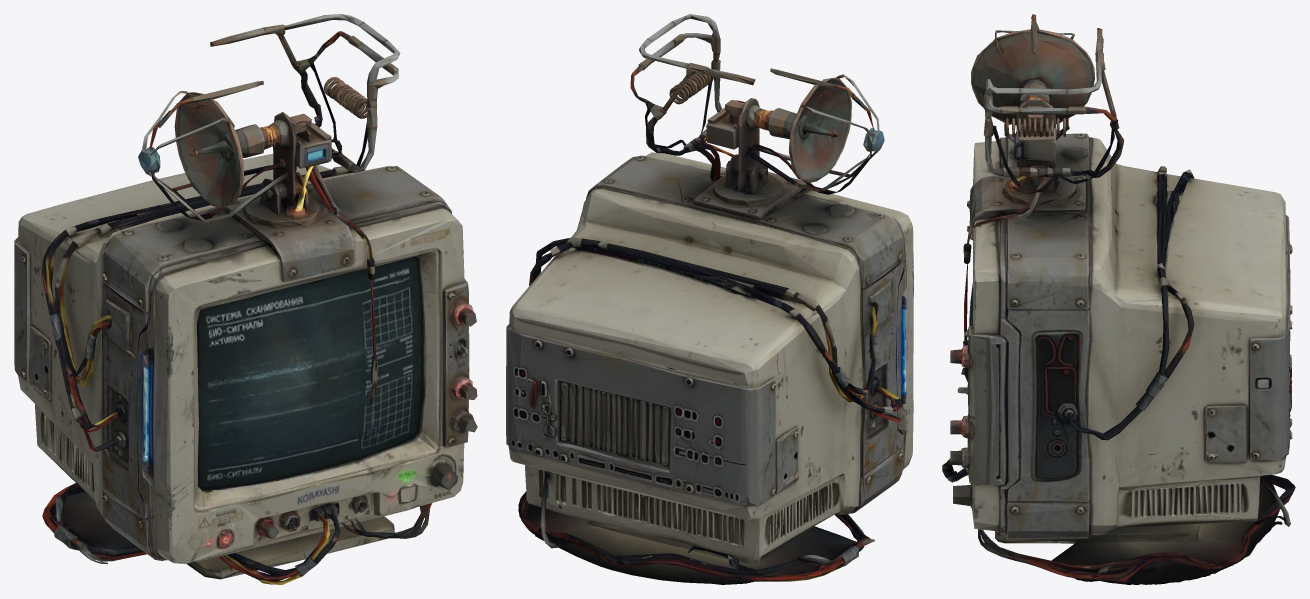
File: prop_scanner_lv1.glb
3 renders of one model, left to right at view 1: azimuth 30°, elevation 25°; view 2: azimuth 150°, elevation 25°; view 3: azimuth 270°, elevation 25°, orthographic. The views are drawn at different scales.
Visible parts, largest first — view 1: world; view 2: world; view 3: world.
Boxes of the visible parts, x1=… form: world: x1=14, y1=14, x2=477, y2=584; world: x1=506, y1=14, x2=913, y2=584; world: x1=942, y1=14, x2=1295, y2=584.
Bounding box in the file's own units: 0.4996 × 0.6357 × 0.4453.
Materials: 1 (1 with a texture image).
